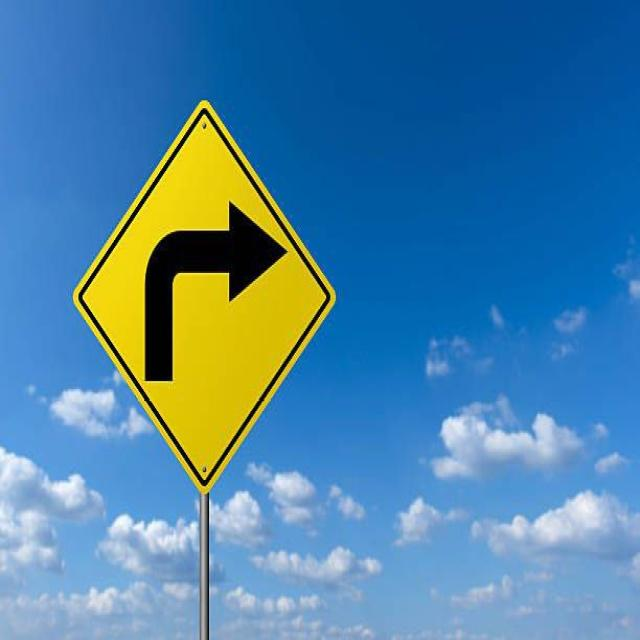Righthand_curve: (71, 97, 337, 490)
